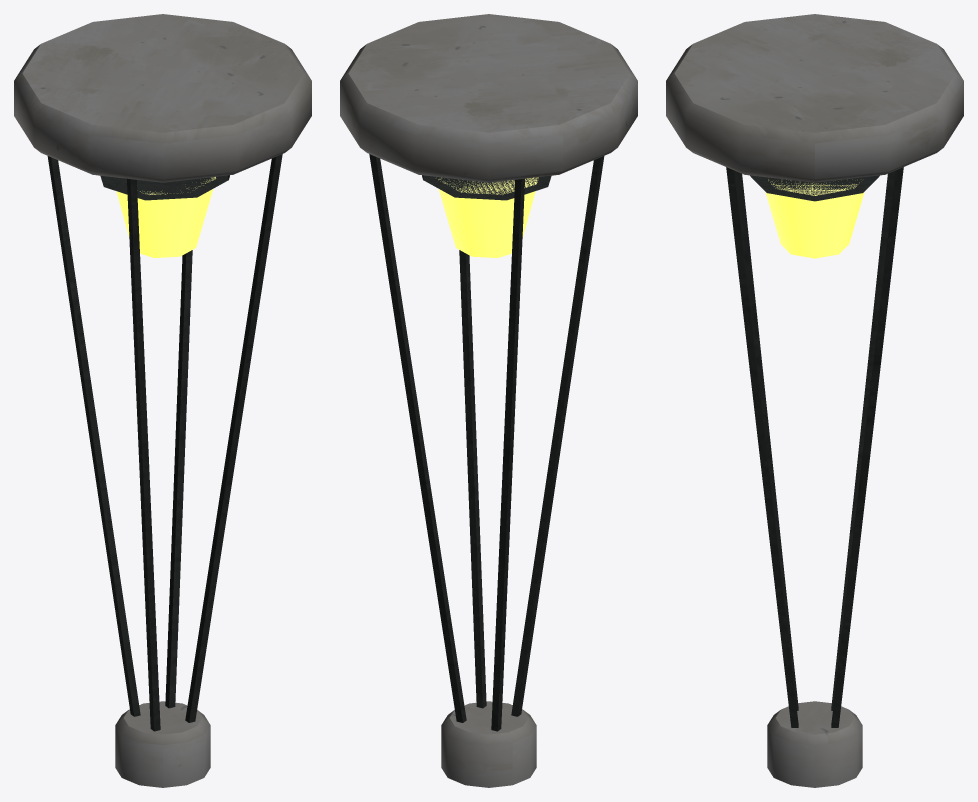
The model's file is outdoor_lamp_3.glb.
3 renders of one model, left to right at view 1: azimuth 30°, elevation 25°; view 2: azimuth 150°, elevation 25°; view 3: azimuth 270°, elevation 25°, orthographic.
Parts seen in each view (by area): view 1: outdoor_lamp_3; view 2: outdoor_lamp_3; view 3: outdoor_lamp_3.
Boxes of the visible parts, x1=… form: outdoor_lamp_3: x1=14, y1=14, x2=311, y2=787; outdoor_lamp_3: x1=340, y1=14, x2=637, y2=787; outdoor_lamp_3: x1=666, y1=14, x2=963, y2=787.
Size of what is drawn, in the model's own units: 0.7497 by 1.93 by 0.7497.
Materials: 3 (2 with a texture image).
